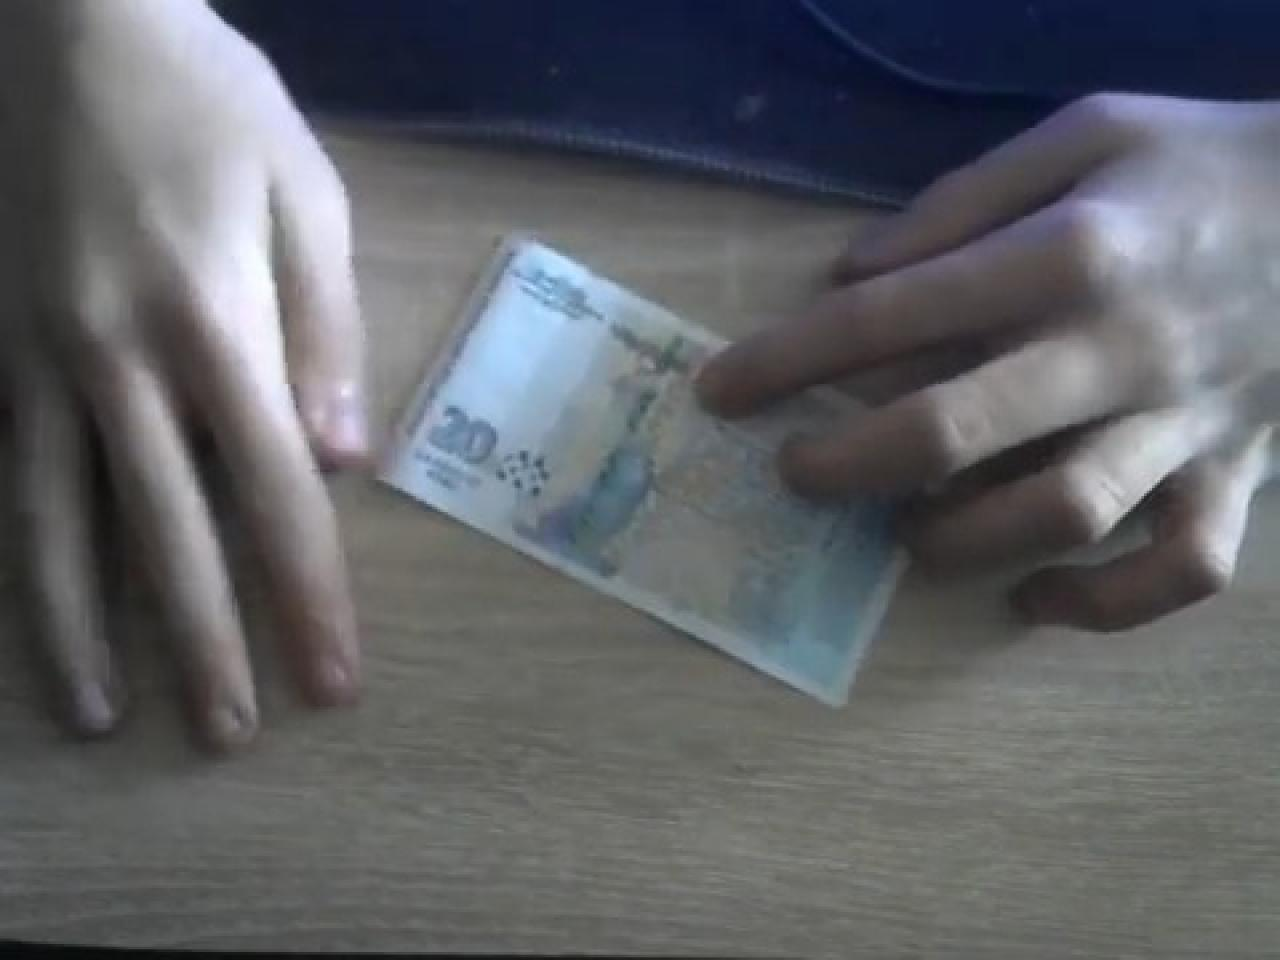20leva: (371, 227, 917, 709)
